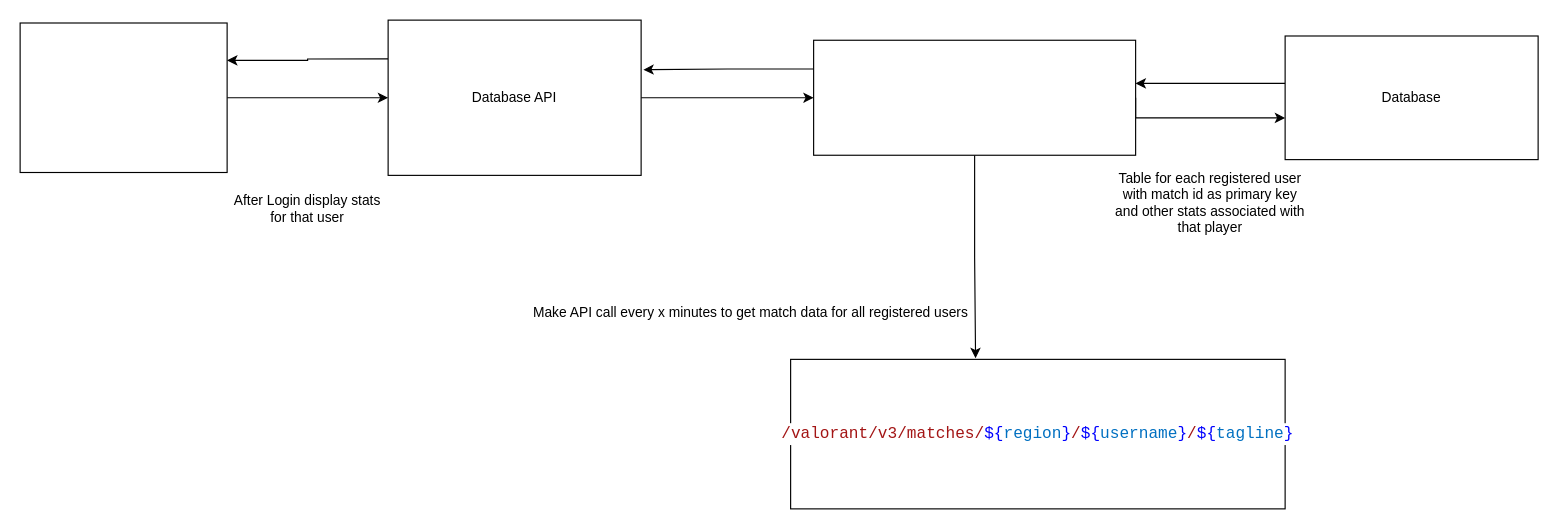
This 1558x529 diagram has some shape labels left out. Here are the shapes that lost their labels. From the top down, the centre of each, then its label:
the point at 123,97: Front-End
the point at 974,97: Database Server/ Auth Server
